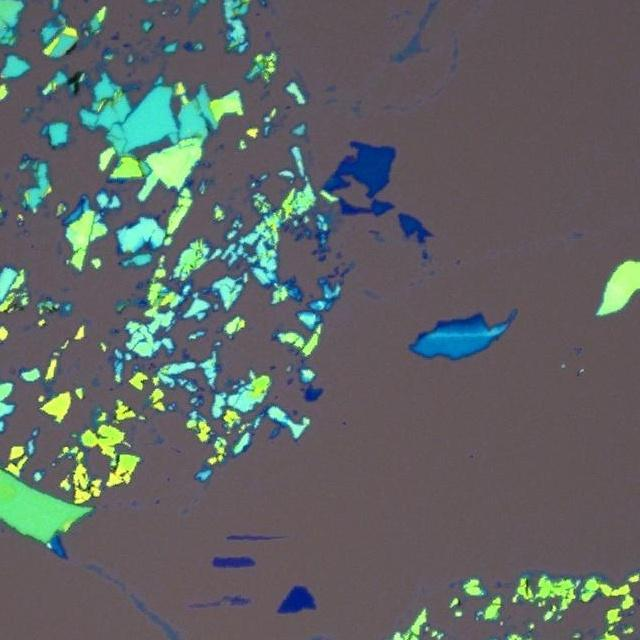monolayer-eWW4: (185, 596, 234, 608), (233, 600, 247, 606)
